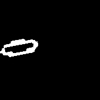chain: (0, 39, 37, 56)
